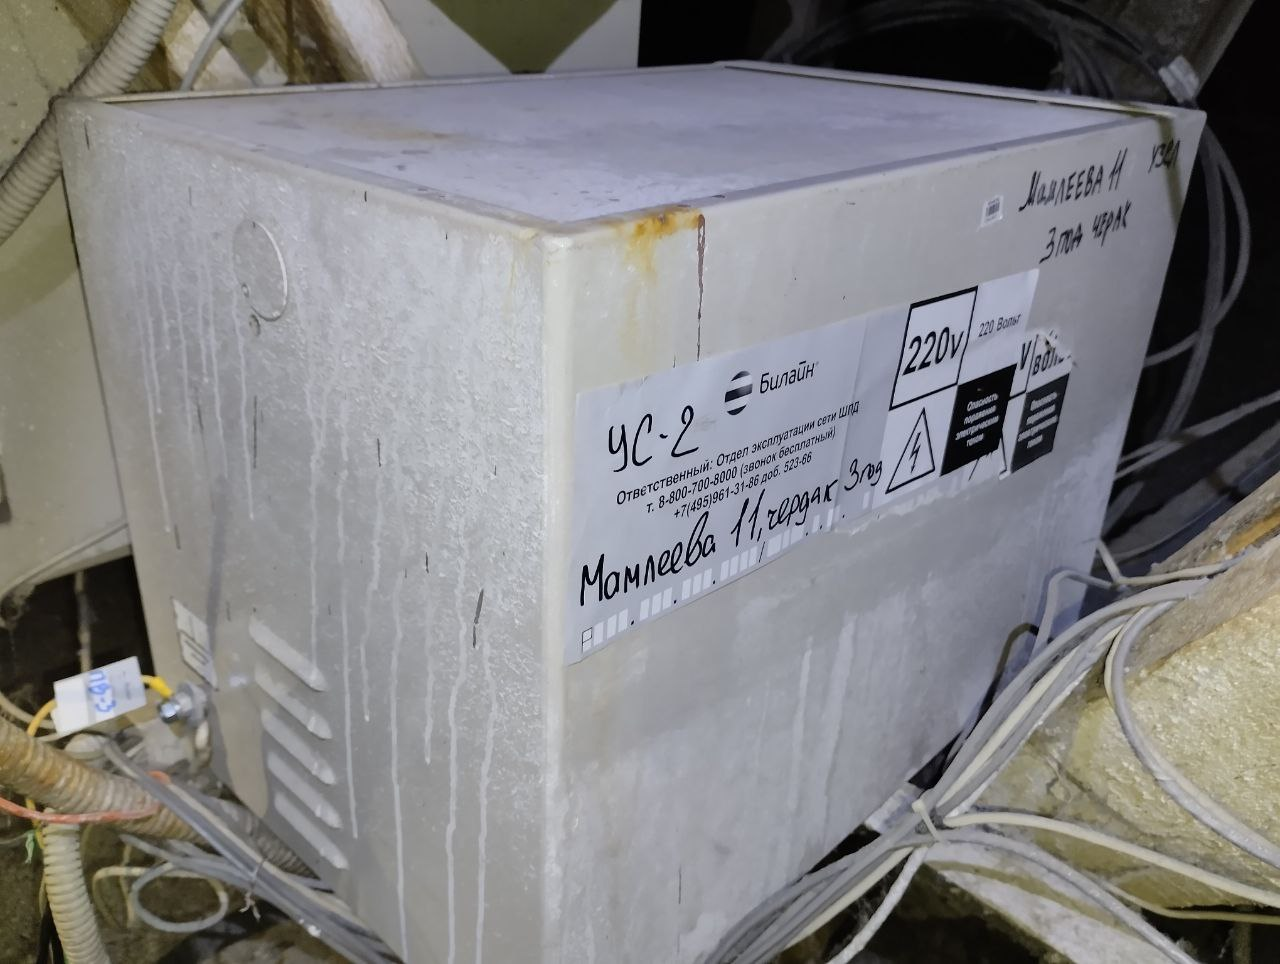sv-5: (51, 50, 1217, 962)
